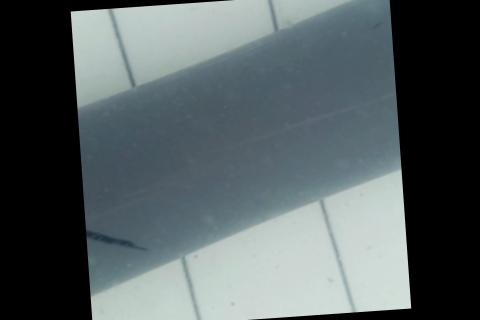keretakan: (84, 218, 150, 257)
